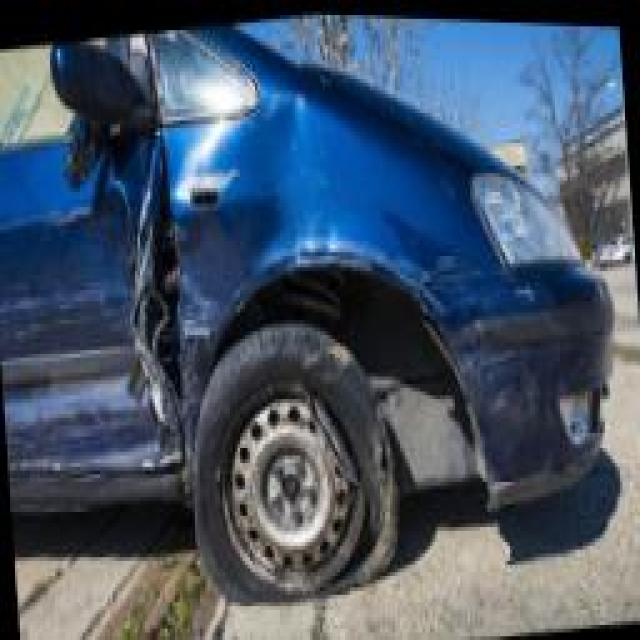Bumper: (442, 245, 630, 534)
Door: (0, 94, 178, 488)
Fender: (162, 68, 465, 361)
